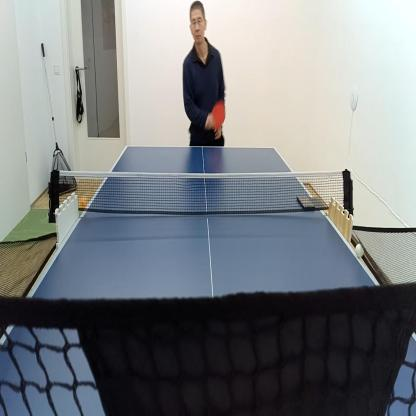Ball: (356, 243, 363, 257), (80, 197, 87, 208)
